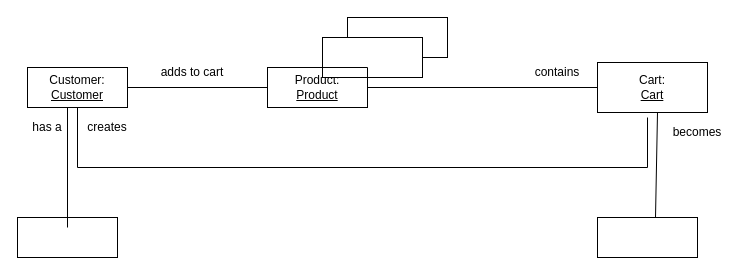
Image size: 745x275. Some labels were removed from this diagram. Here are the shapes that lost their labels. From the top down, the box of each, then its label:
(16, 216, 118, 258): Profile: Profile
(596, 216, 698, 258): Order: O rder
